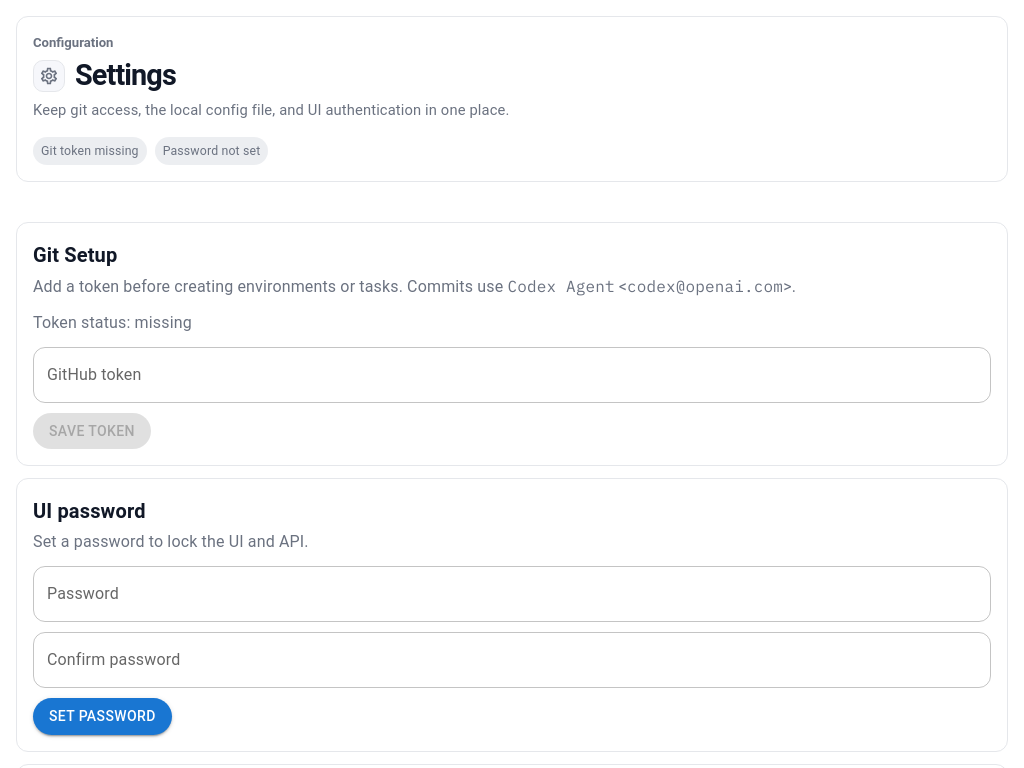
SettingsTab › sets a password when none exists
Click the button "Set password" at coordinates (102, 716), box [33,698,172,735]
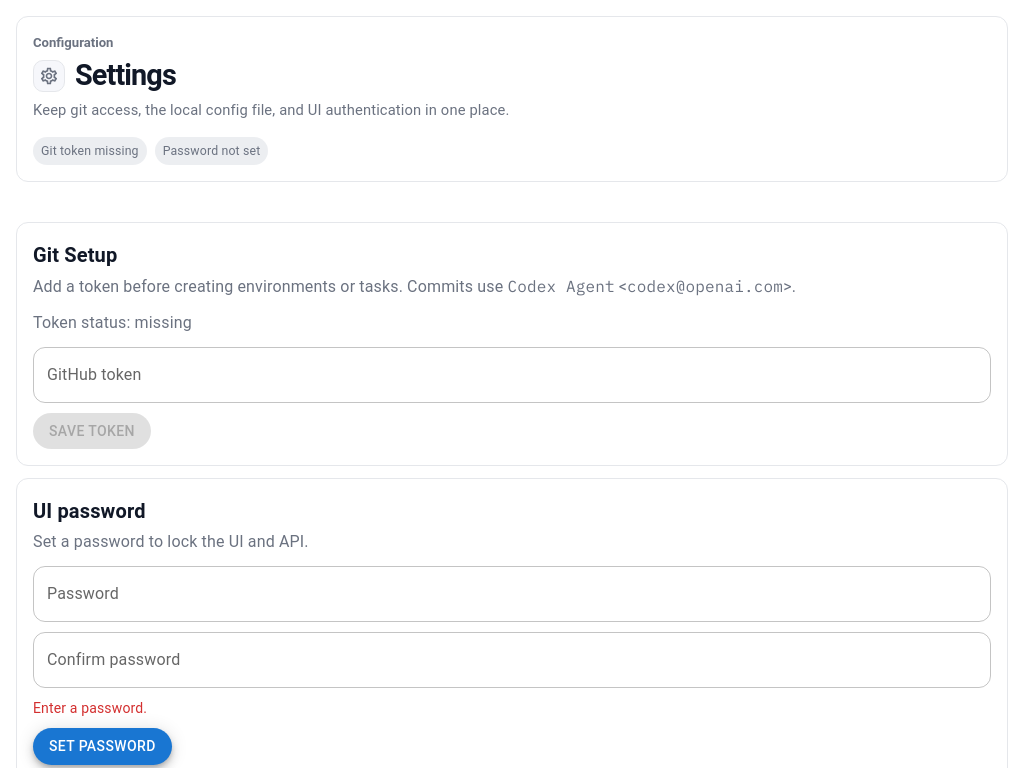
Result: the text "Enter a password." is shown at [33,700,147,716]
Type "pass-1234" into the password field labelled "Password" at coordinates (512, 594), box [33,566,991,622]
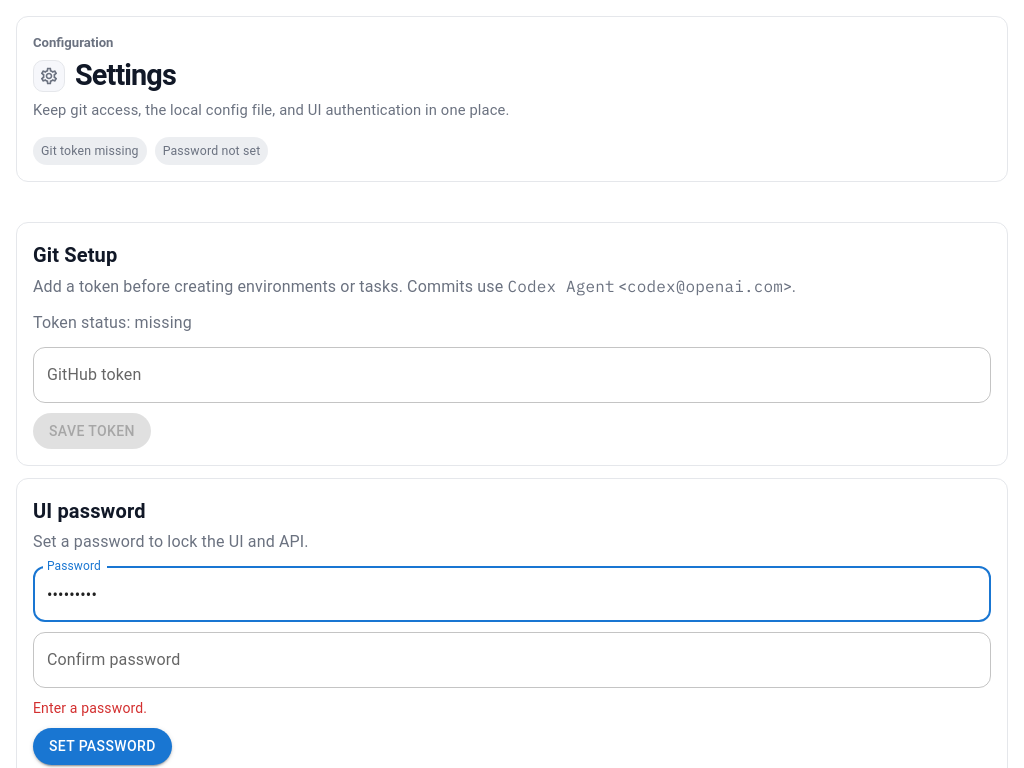
Type "pass-1234" into the password field labelled "Confirm password" at coordinates (512, 660), box [33,632,991,688]
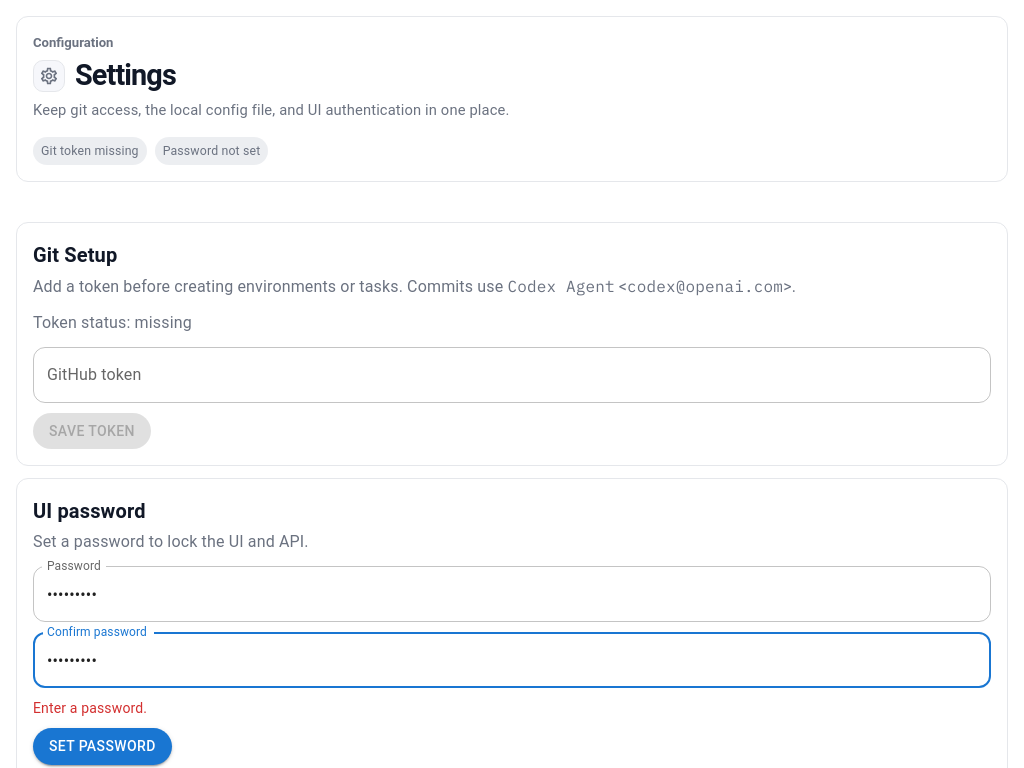
Click the button "Set password" at coordinates (102, 747), box [33,728,172,765]
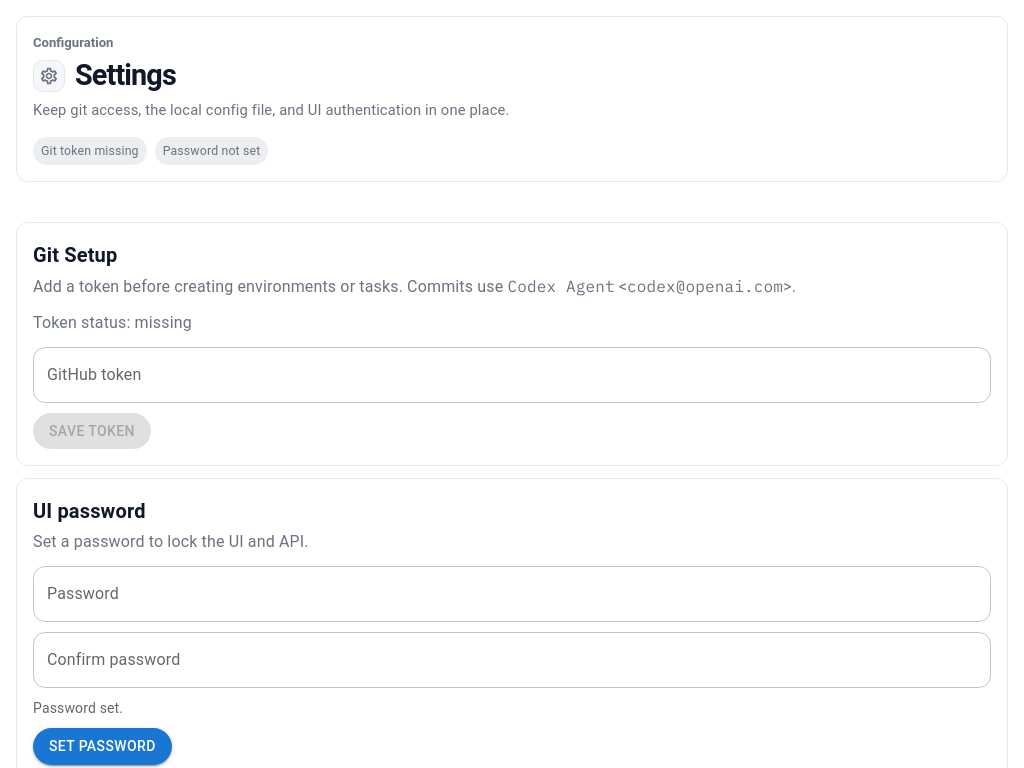
Result: the text "Password set." is shown at [33,700,123,716]
Result: the password field labelled "Password" is empty at [33,566,991,622]
